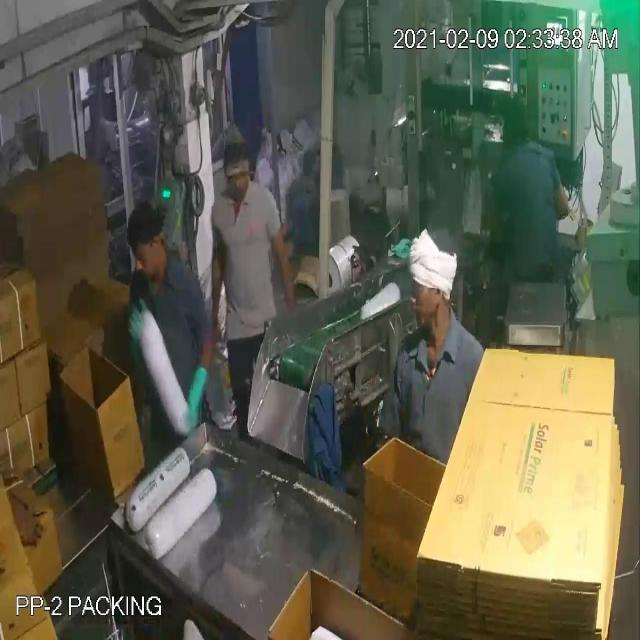No_Gloves: (28, 89, 283, 524)
